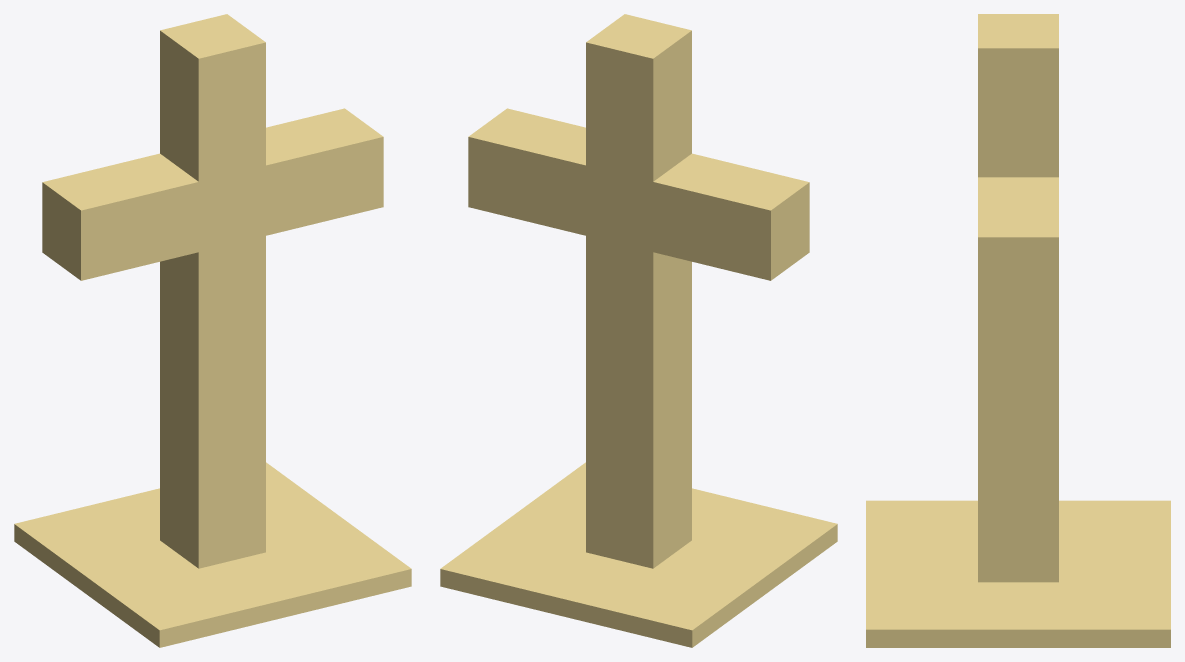
Rendered from cross.glb.
3 renders of one model, left to right at view 1: azimuth 30°, elevation 25°; view 2: azimuth 150°, elevation 25°; view 3: azimuth 270°, elevation 25°, orthographic. The views are drawn at different scales.
Visible parts, largest first — view 1: cross; view 2: cross; view 3: cross.
Boxes of the visible parts, box(x1,y1,x2,y2) form: cross: box(14, 14, 411, 647); cross: box(440, 14, 837, 647); cross: box(866, 14, 1170, 647).
Bounding box in the file's own units: 0.36 × 0.6 × 0.3.
